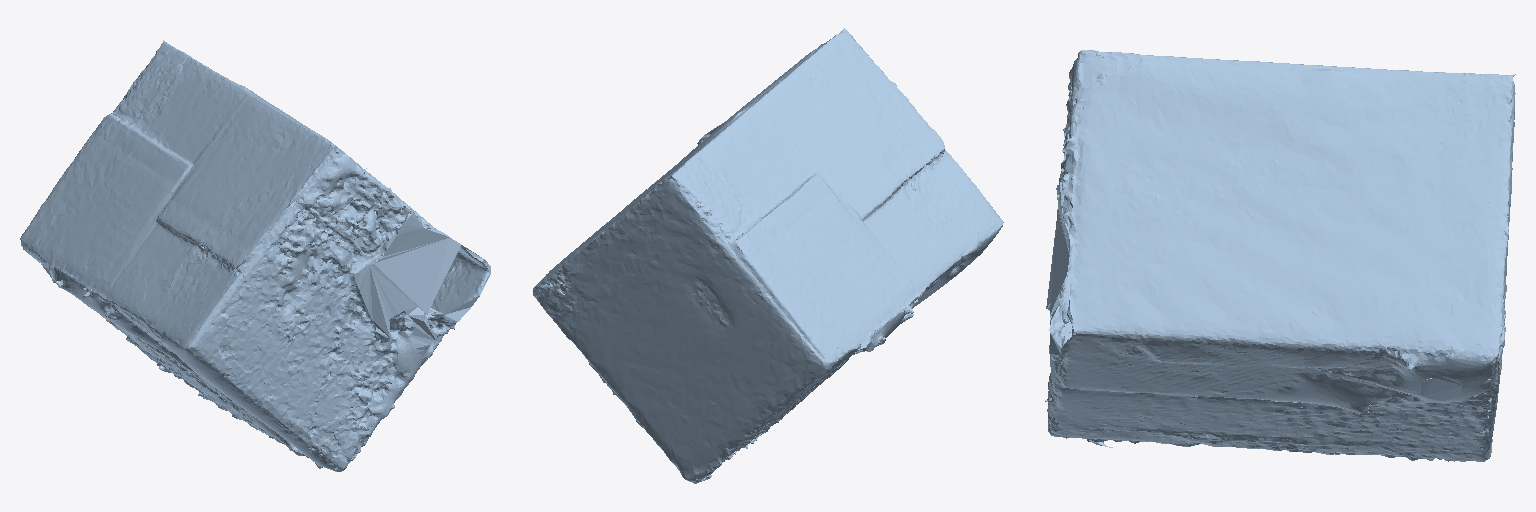
The robot description file, URDF, robot "boxlarge.urdf":
<?xml version="1.0" ?>
<robot name="boxlarge.urdf">
  <dynamics damping="0.5" friction="0.9"/>
  <link name="baseLink">
    <contact>
      <lateral_friction value="0.9"/>
      <rolling_friction value="0.5"/>
      <stiffness value="30000"/>
      <damping value="1000"/>
    </contact>
    <visual>
      <origin rpy="0 0 0" xyz="0 0 0"/>
      <geometry>
        <mesh filename="objects/boxlarge/boxlarge.obj" scale="1.0 1.0 1.0"/>
      </geometry>
       <material name="mat">
        <color rgba="0.7 0.8 0.9 1"/>
      </material>
    </visual>
    <collision>
      <origin rpy="0 0 0" xyz="0 0 0"/>
      <geometry>
         <mesh filename="objects/boxlarge/boxlarge.obj" scale="1.0 1.0 1.0"/>
      </geometry>
    </collision>
  </link>
</robot>

--- Render facts (derived) ---
3 views of the same robot in one strip: view 1: azimuth 30°, elevation 25°; view 2: azimuth 150°, elevation 25°; view 3: azimuth 270°, elevation 25° (orthographic).
Model boxlarge.urdf with 1 links and 0 joints (none), rooted at baseLink, posed all joints at 0.
Links seen in each view (by area): view 1: baseLink; view 2: baseLink; view 3: baseLink.
Link boxes in pixels (bbox=[...]): baseLink: bbox=[20, 40, 490, 471]; baseLink: bbox=[533, 28, 1003, 483]; baseLink: bbox=[1045, 50, 1515, 461].
Bounding box of the posed robot: 0.5144 × 0.5349 × 0.5235 m (x, y, z).
1 mesh visuals loaded from 1 distinct referenced files (1 OBJ).
